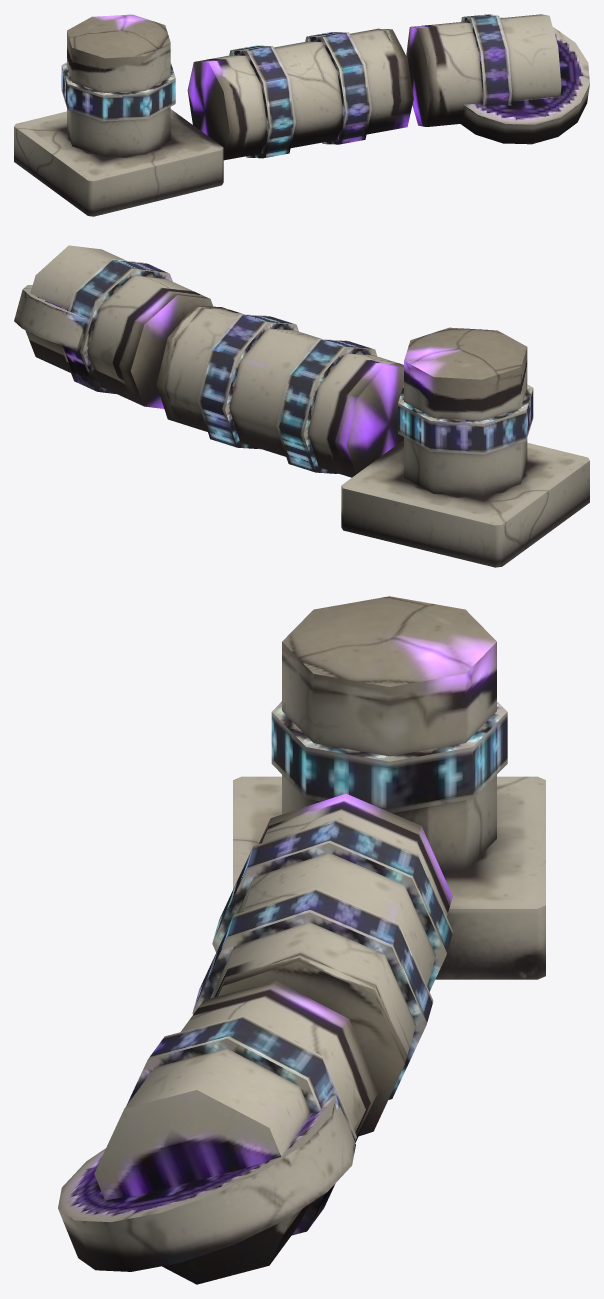
Rendered from abyss_sealstone.glb.
3 views of the same model, one above another, from view 1: azimuth 30°, elevation 25°; view 2: azimuth 150°, elevation 25°; view 3: azimuth 270°, elevation 25° (orthographic). The views are drawn at different scales.
Parts seen in each view (by area): view 1: abyss_sealstone; view 2: abyss_sealstone; view 3: abyss_sealstone.
Part boxes in pixels (bbox=[...]): abyss_sealstone: bbox=[14, 14, 589, 216]; abyss_sealstone: bbox=[14, 245, 589, 567]; abyss_sealstone: bbox=[58, 596, 545, 1284].
Bounding box in the file's own units: 2.57 × 0.728 × 1.12.
1 material, 1 textured.
